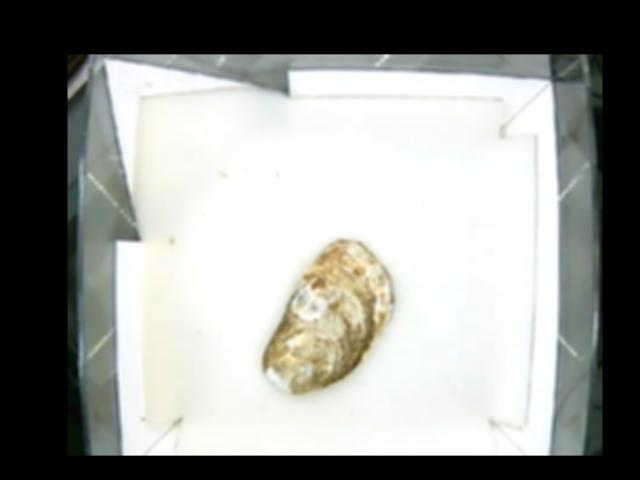Shell: (259, 238, 391, 391)
